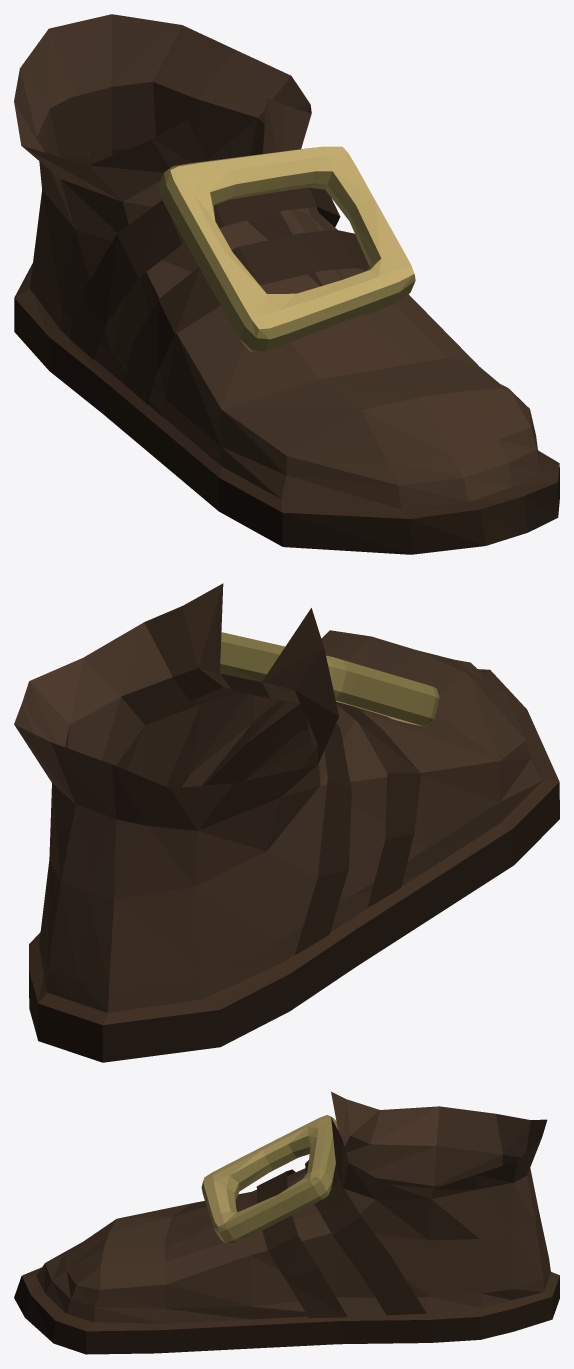
The model's file is bigBuckleShoe.glb.
The picture shows the model from 3 angles, top to bottom: view 1: azimuth 30°, elevation 25°; view 2: azimuth 150°, elevation 25°; view 3: azimuth 270°, elevation 25°; orthographic projection. The views are drawn at different scales.
Parts seen in each view (by area): view 1: bigBuckleShoe; view 2: bigBuckleShoe; view 3: bigBuckleShoe.
Boxes of the visible parts, x1,y1,x2,y2 form: bigBuckleShoe: (14,14,559,554); bigBuckleShoe: (14,583,559,1062); bigBuckleShoe: (14,1091,559,1354).
Bounding box in the file's own units: 0.157 × 0.1601 × 0.3923.
